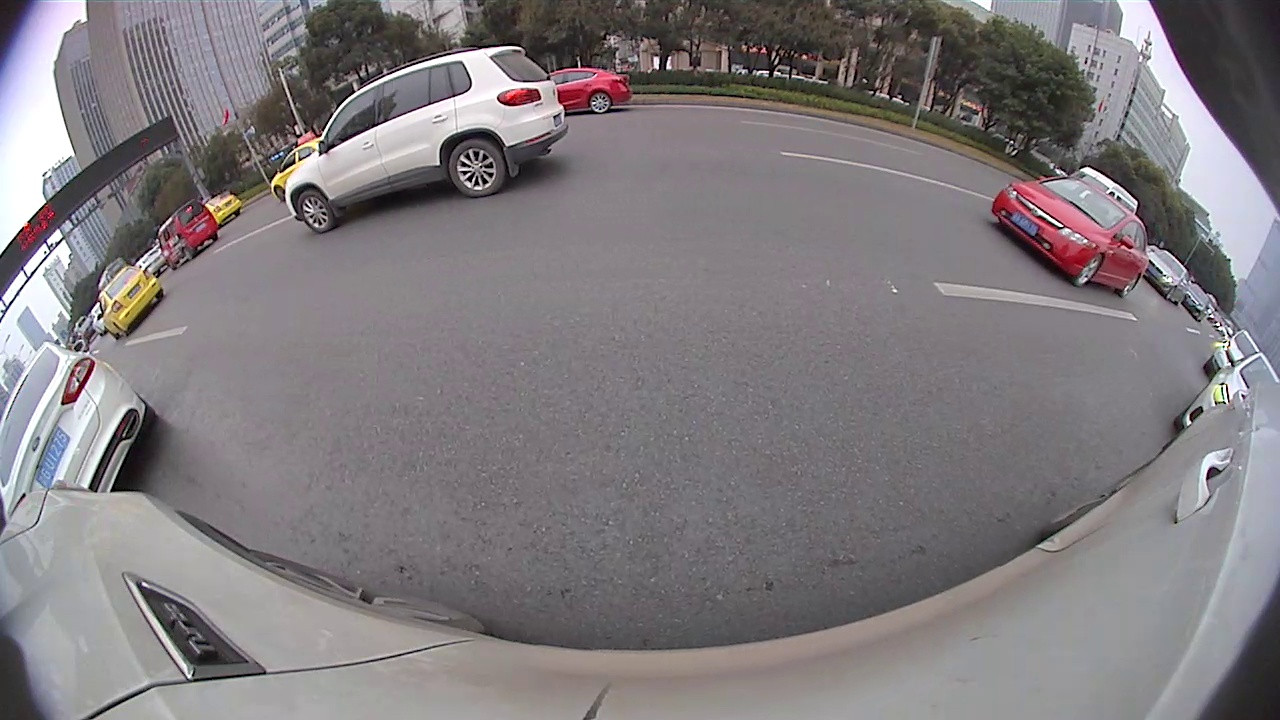car: (283, 46, 569, 231), (1, 341, 161, 515), (993, 176, 1146, 298), (1178, 353, 1278, 437), (100, 266, 164, 335), (158, 199, 216, 269), (535, 70, 631, 111), (273, 138, 326, 198)
front: (294, 188, 336, 233), (1075, 254, 1104, 288)
rear: (447, 141, 508, 199), (587, 89, 615, 114), (1121, 273, 1142, 298)
